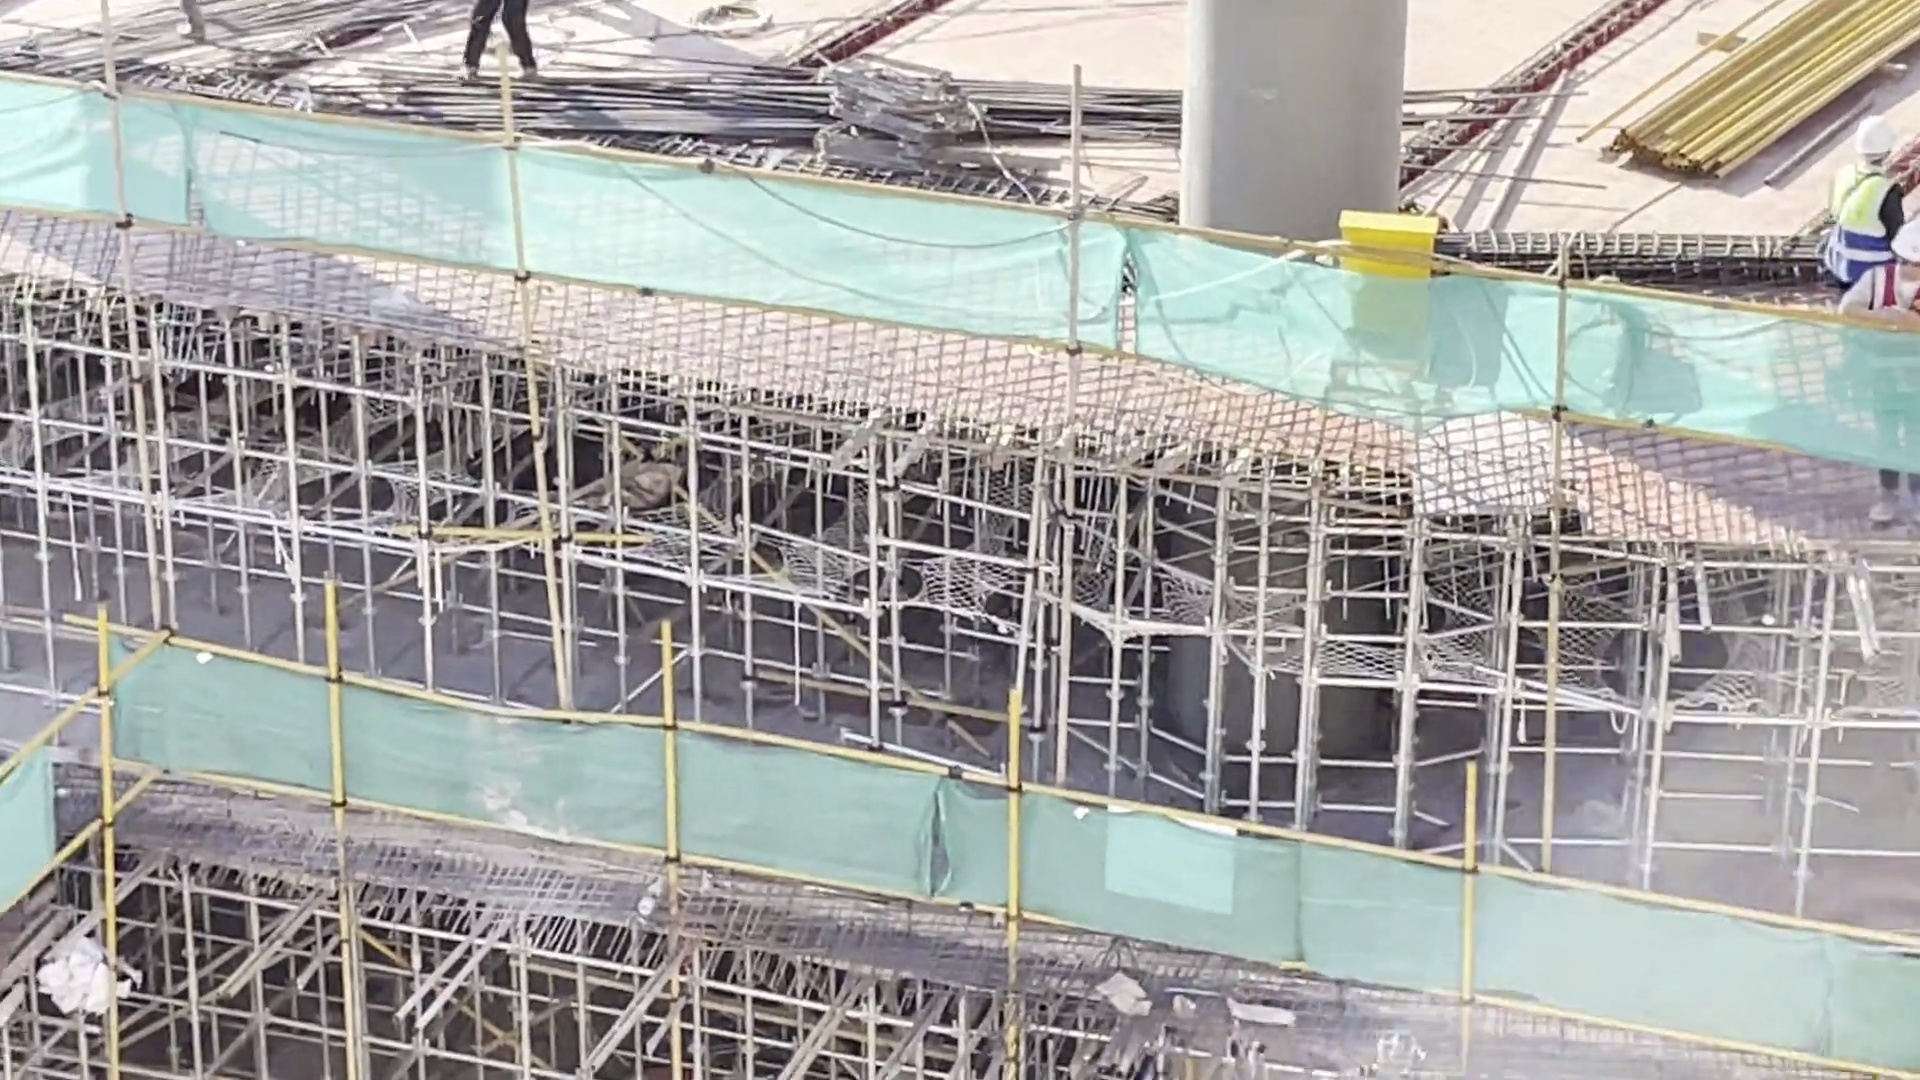ebox: (1333, 205, 1444, 358)
helmet: (1848, 108, 1900, 170)
person: (1833, 231, 1920, 543), (1825, 113, 1904, 283)
vest: (1861, 260, 1920, 395), (1838, 168, 1897, 278)
